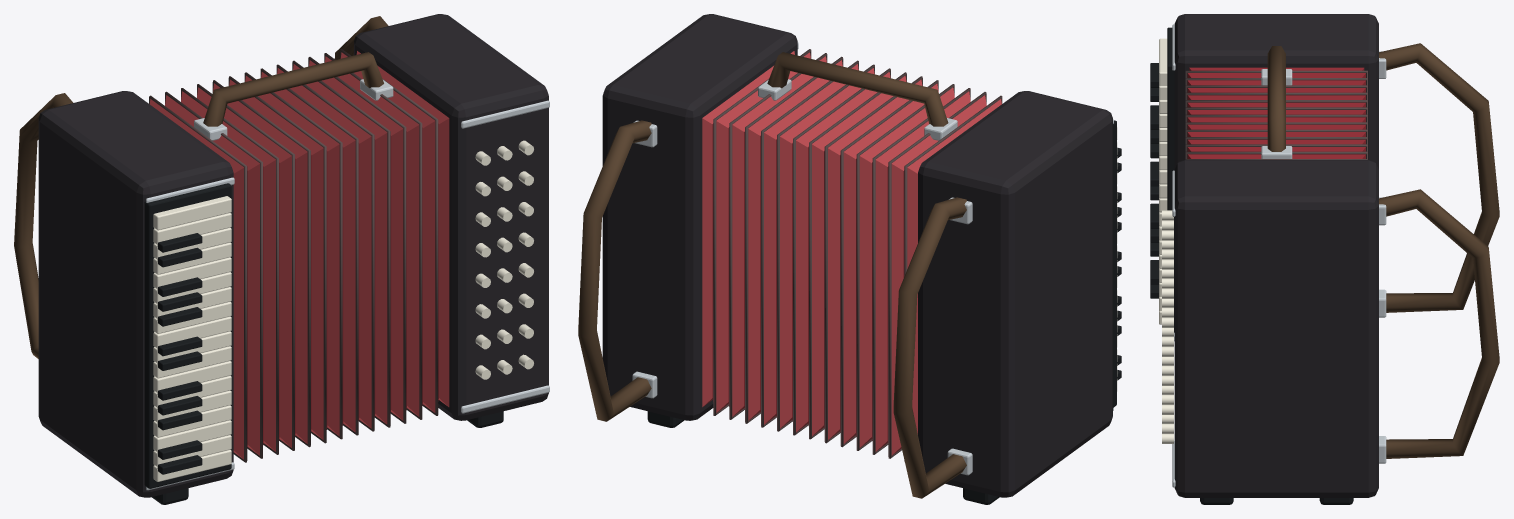
The model's file is accordion.glb.
3 renders of one model, left to right at view 1: azimuth 30°, elevation 25°; view 2: azimuth 150°, elevation 25°; view 3: azimuth 270°, elevation 25°, orthographic. The views are drawn at different scales.
Visible parts, largest first — view 1: Continuous folded accordion bellows, Keyboard end case, Bass end case, Shoulder strap, Keyboard recessed surround, Top carry handle, Bellows fold trim 2, Bellows fold trim 6, Bellows fold trim 11, Bellows fold trim 7, Bellows fold trim 8, Bellows fold trim 9 (+27 smaller); view 2: Keyboard end case, Continuous folded accordion bellows, Bass end case, Shoulder strap, Shoulder strap.001, Top carry handle, Bellows fold trim 5, Bellows fold trim 4, Bellows fold trim 6, Bellows fold trim 12, Bellows fold trim 7, Bellows fold trim 3 (+8 smaller); view 3: Bass end case, Keyboard end case, Continuous folded accordion bellows, Shoulder strap.001, Shoulder strap, Top carry handle, Keyboard recessed surround, Bellows fold trim 8, Bellows fold trim 5, Bellows fold trim 13, Bellows fold trim 4, Bellows fold trim 7 (+8 smaller).
Boxes of the visible parts, <box> form: Continuous folded accordion bellows: <box>149,51,449,459</box>; Keyboard end case: <box>38,91,233,497</box>; Bass end case: <box>354,14,548,420</box>; Shoulder strap: <box>14,93,73,358</box>; Keyboard recessed surround: <box>144,183,231,488</box>; Top carry handle: <box>203,52,383,126</box>; Bellows fold trim 2: <box>149,95,247,462</box>; Bellows fold trim 6: <box>212,80,310,447</box>; Bellows fold trim 11: <box>292,60,390,427</box>; Bellows fold trim 7: <box>228,76,326,443</box>; Bellows fold trim 8: <box>244,72,342,439</box>; Bellows fold trim 9: <box>260,68,358,435</box>; Keyboard end case: <box>918,91,1112,497</box>; Continuous folded accordion bellows: <box>702,51,1001,455</box>; Bass end case: <box>602,14,797,420</box>; Shoulder strap: <box>893,197,966,498</box>; Shoulder strap.001: <box>578,120,651,421</box>; Top carry handle: <box>767,52,948,126</box>; Bellows fold trim 5: <box>856,84,954,450</box>; Bellows fold trim 4: <box>872,88,970,454</box>; Bellows fold trim 6: <box>840,80,938,447</box>; Bellows fold trim 12: <box>745,56,843,423</box>; Bellows fold trim 7: <box>824,76,922,443</box>; Bellows fold trim 3: <box>888,92,986,458</box>; Bass end case: <box>1174,160,1378,497</box>; Keyboard end case: <box>1174,14,1378,169</box>; Continuous folded accordion bellows: <box>1187,67,1365,158</box>; Shoulder strap.001: <box>1379,189,1499,458</box>; Shoulder strap: <box>1379,43,1499,312</box>; Top carry handle: <box>1267,46,1285,151</box>; Keyboard recessed surround: <box>1167,27,1174,332</box>; Bellows fold trim 8: <box>1185,114,1367,122</box>; Bellows fold trim 5: <box>1185,92,1367,99</box>; Bellows fold trim 13: <box>1185,151,1367,158</box>; Bellows fold trim 4: <box>1185,85,1367,92</box>; Bellows fold trim 7: <box>1185,107,1367,114</box>.
Size of the model in its own units: 0.535 by 0.4517 by 0.4143.
